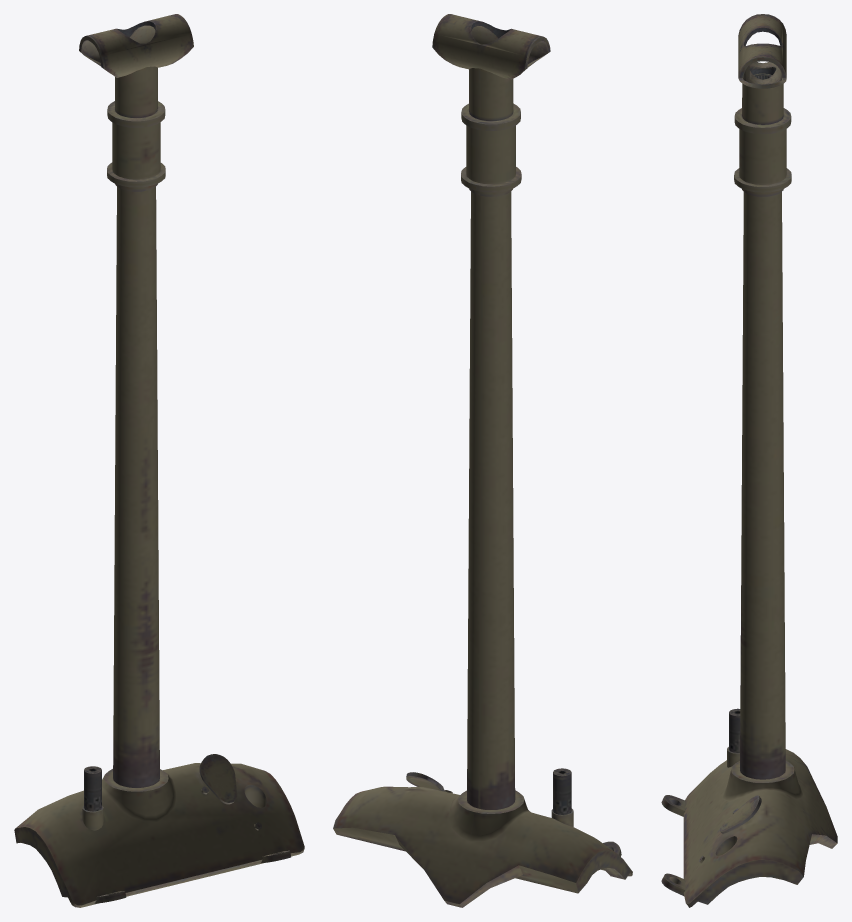
File: Gun_05.glb
3 renders of one model, left to right at view 1: azimuth 30°, elevation 25°; view 2: azimuth 150°, elevation 25°; view 3: azimuth 270°, elevation 25°, orthographic. The views are drawn at different scales.
Visible parts, largest first — view 1: set_0_group_0; view 2: set_0_group_0; view 3: set_0_group_0.
Boxes of the visible parts, x1,y1,x2,y2 form: set_0_group_0: [14, 14, 304, 907]; set_0_group_0: [333, 14, 632, 907]; set_0_group_0: [661, 14, 837, 907].
Bounding box in the file's own units: 0.9654 × 3.2 × 0.6305.
1 material, 1 textured.
